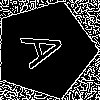A: (20, 25, 76, 71)
